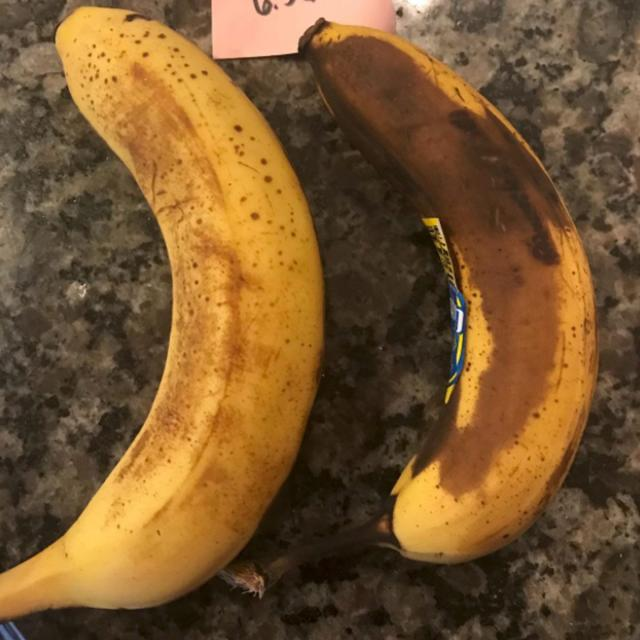Banana: (0, 7, 328, 623), (302, 18, 602, 566)
